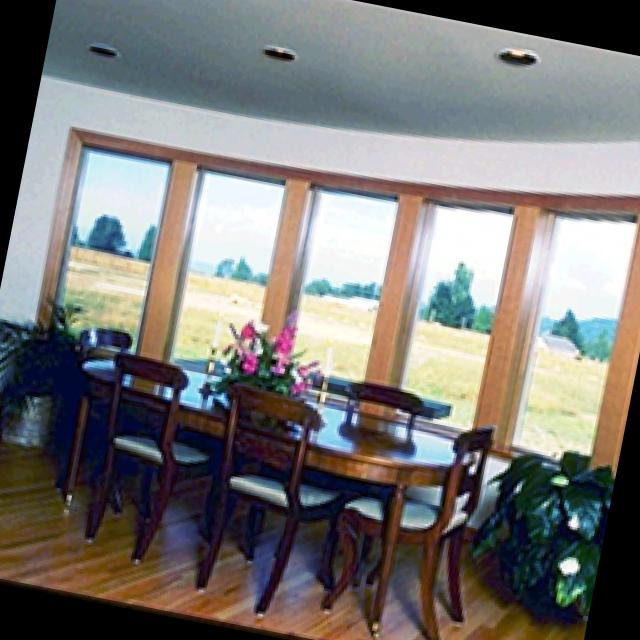2011: (48, 139, 632, 467)
bouquet: (200, 314, 317, 424)
candle holder: (198, 287, 231, 389), (307, 333, 335, 422)
ceiling beam: (42, 0, 640, 141)
ceiling lamps: (491, 41, 538, 66), (87, 38, 119, 59), (264, 41, 293, 62)
chair: (340, 379, 418, 422), (89, 327, 131, 355)
chair -occluded-: (189, 379, 352, 612), (339, 426, 488, 634), (83, 347, 208, 558)
plant -x: (493, 441, 607, 625), (7, 303, 98, 444)
table -X: (76, 340, 478, 628)
